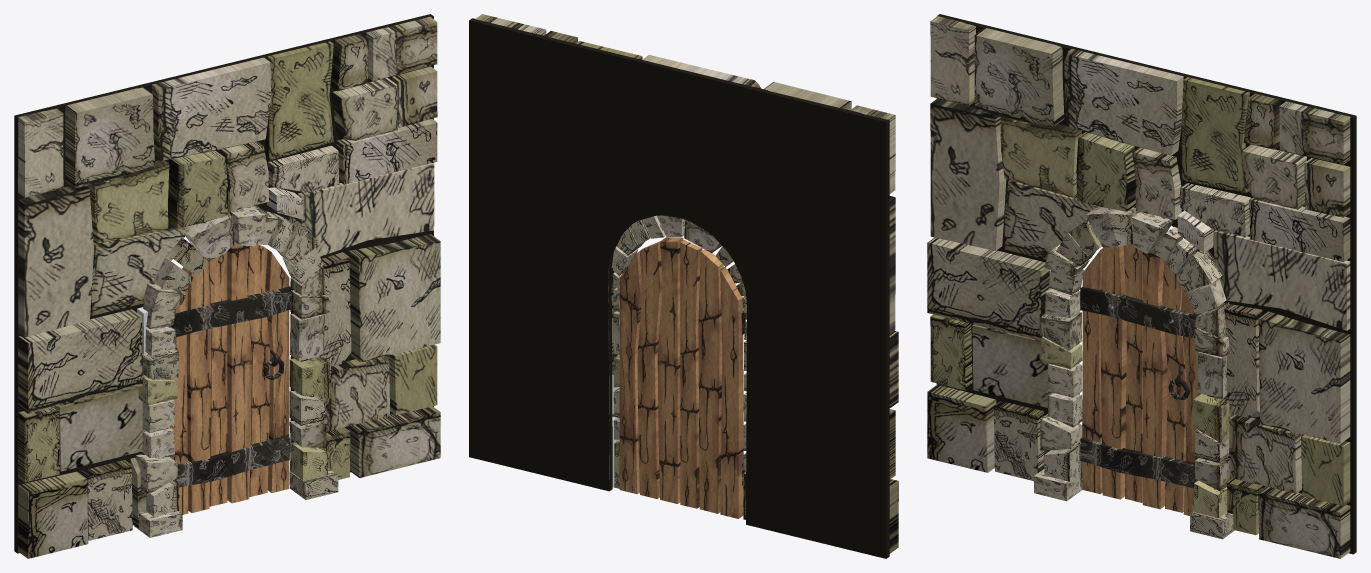
Rendered from stone_door.glb.
3 views of the same model, side by side, from view 1: azimuth 30°, elevation 25°; view 2: azimuth 150°, elevation 25°; view 3: azimuth 330°, elevation 25° (orthographic).
Parts seen in each view (by area): view 1: Stone Wall_Door, Door_1.001; view 2: Stone Wall_Door, Door_1.001; view 3: Stone Wall_Door, Door_1.001.
Part boxes in pixels (x1,y1,x2,y2): Stone Wall_Door: (14, 14, 440, 558); Door_1.001: (170, 242, 291, 514); Stone Wall_Door: (469, 14, 898, 558); Door_1.001: (619, 237, 745, 518); Stone Wall_Door: (927, 14, 1356, 558); Door_1.001: (1080, 244, 1202, 515).
Bounding box in the file's own units: 2 × 2.01 × 0.1733.
3 materials, 3 textured.
